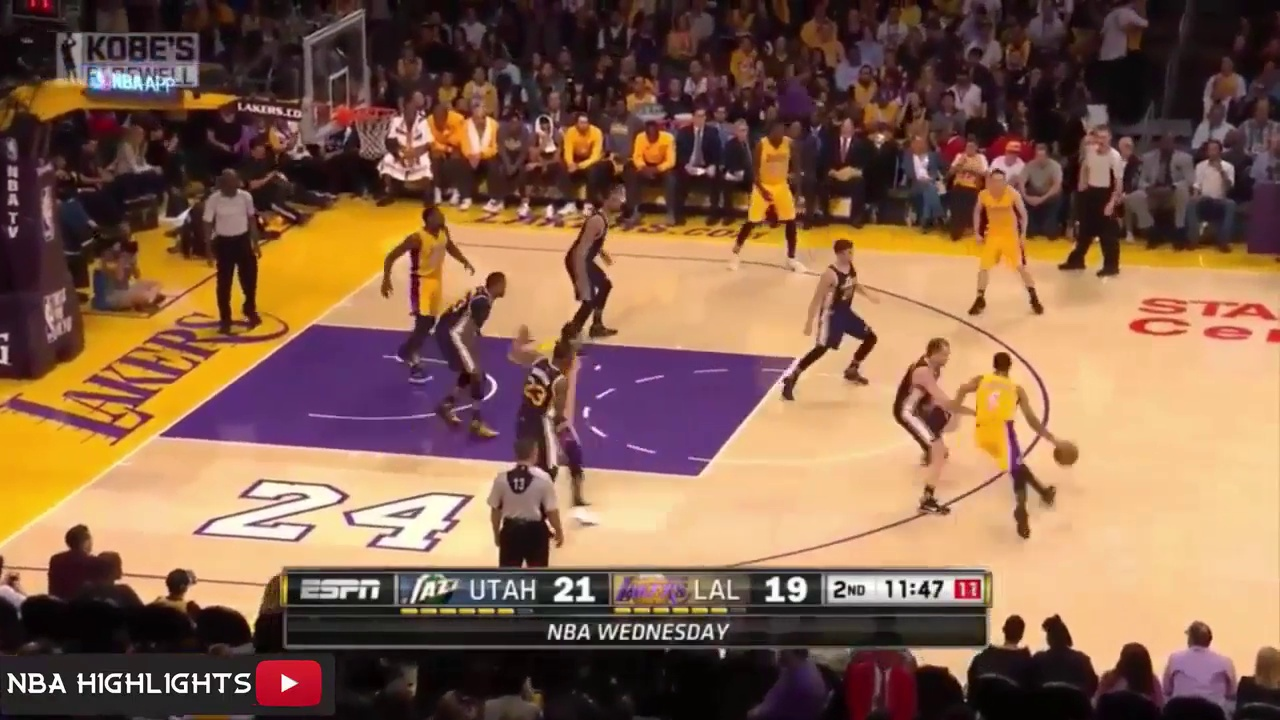jazz: (783, 229, 881, 399), (891, 338, 961, 511), (440, 272, 500, 440), (564, 185, 627, 339), (516, 344, 571, 482)
lakers: (965, 347, 1073, 540), (384, 204, 470, 381), (519, 318, 595, 491), (962, 171, 1049, 318), (739, 123, 810, 273)
